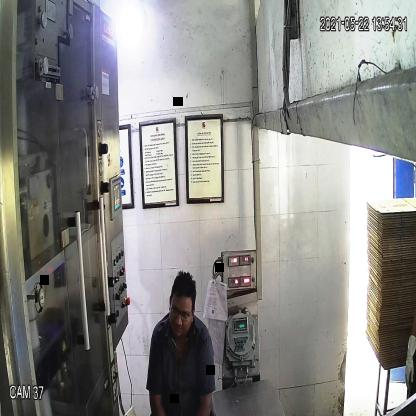goggles: (168, 299, 193, 324)
